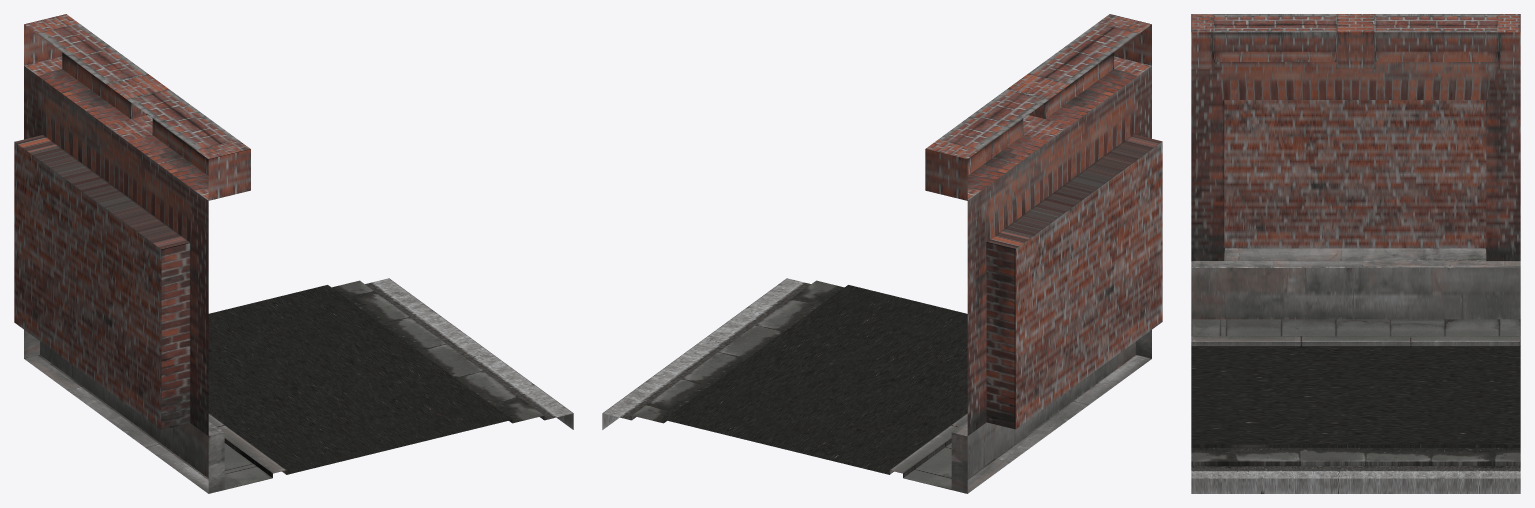
Rendered from road gap.glb.
3 views of the same model, side by side, from view 1: azimuth 30°, elevation 25°; view 2: azimuth 150°, elevation 25°; view 3: azimuth 270°, elevation 25° (orthographic). The views are drawn at different scales.
Parts seen in each view (by area): view 1: 00-0-GF_Straight_Baked; view 2: 00-0-GF_Straight_Baked; view 3: 00-0-GF_Straight_Baked.
Part boxes in pixels (x1,y1,x2,y2): 00-0-GF_Straight_Baked: [14, 14, 573, 493]; 00-0-GF_Straight_Baked: [602, 14, 1162, 493]; 00-0-GF_Straight_Baked: [1191, 14, 1520, 493].
Bounding box in the file's own units: 1.23 × 1.08 × 1.
Materials: 1 (1 with a texture image).
